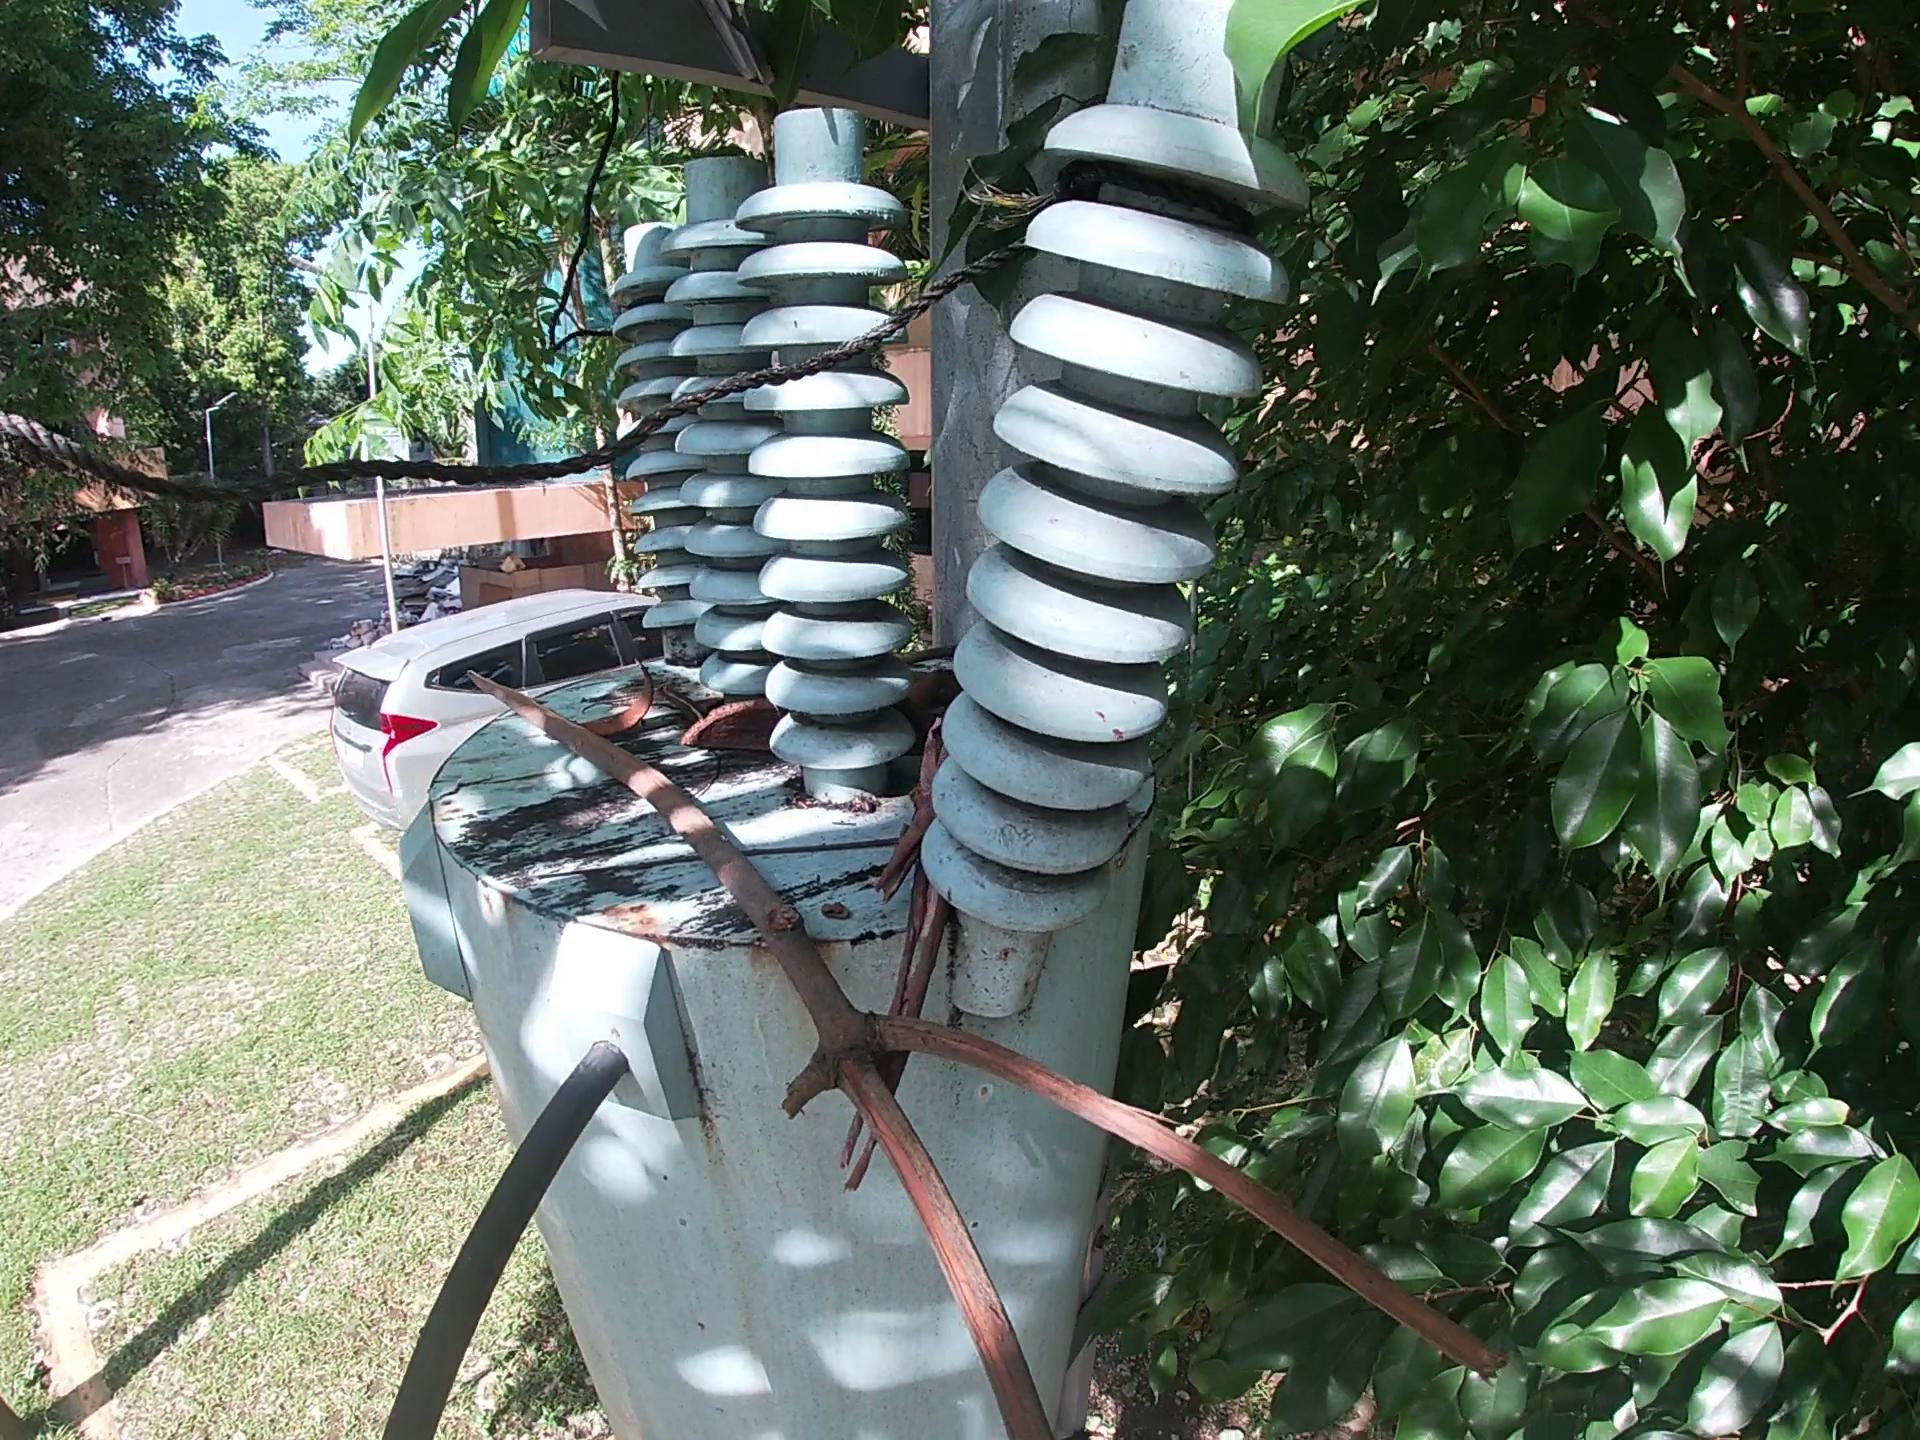mahogany fruit: (673, 697, 789, 765), (578, 664, 664, 746)
tree branch: (458, 647, 1522, 1440), (828, 712, 968, 1209)
